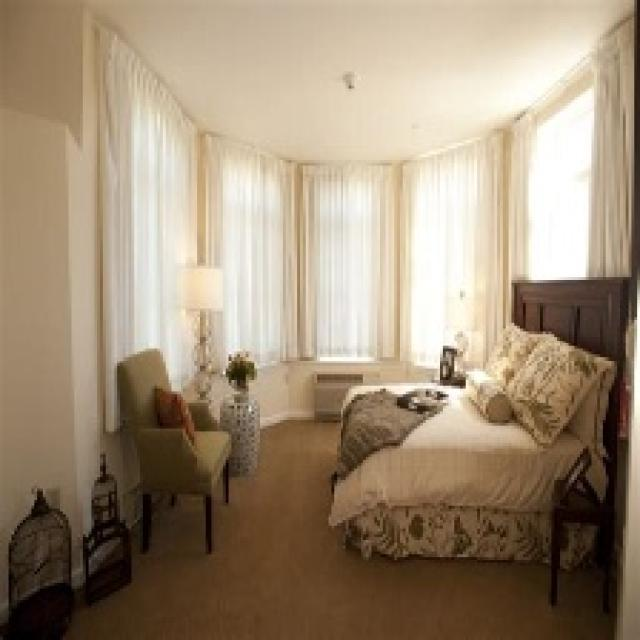Bed: (328, 274, 628, 563)
